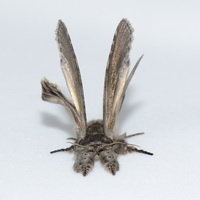insect: (41, 19, 152, 175)
